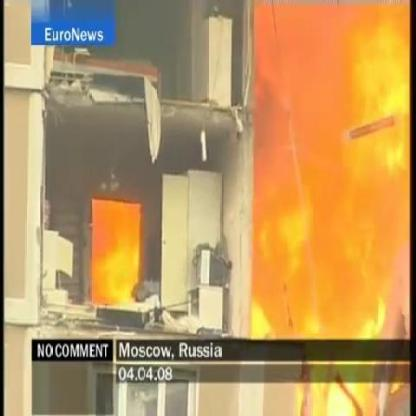fire: (252, 0, 413, 340), (92, 197, 140, 308)
